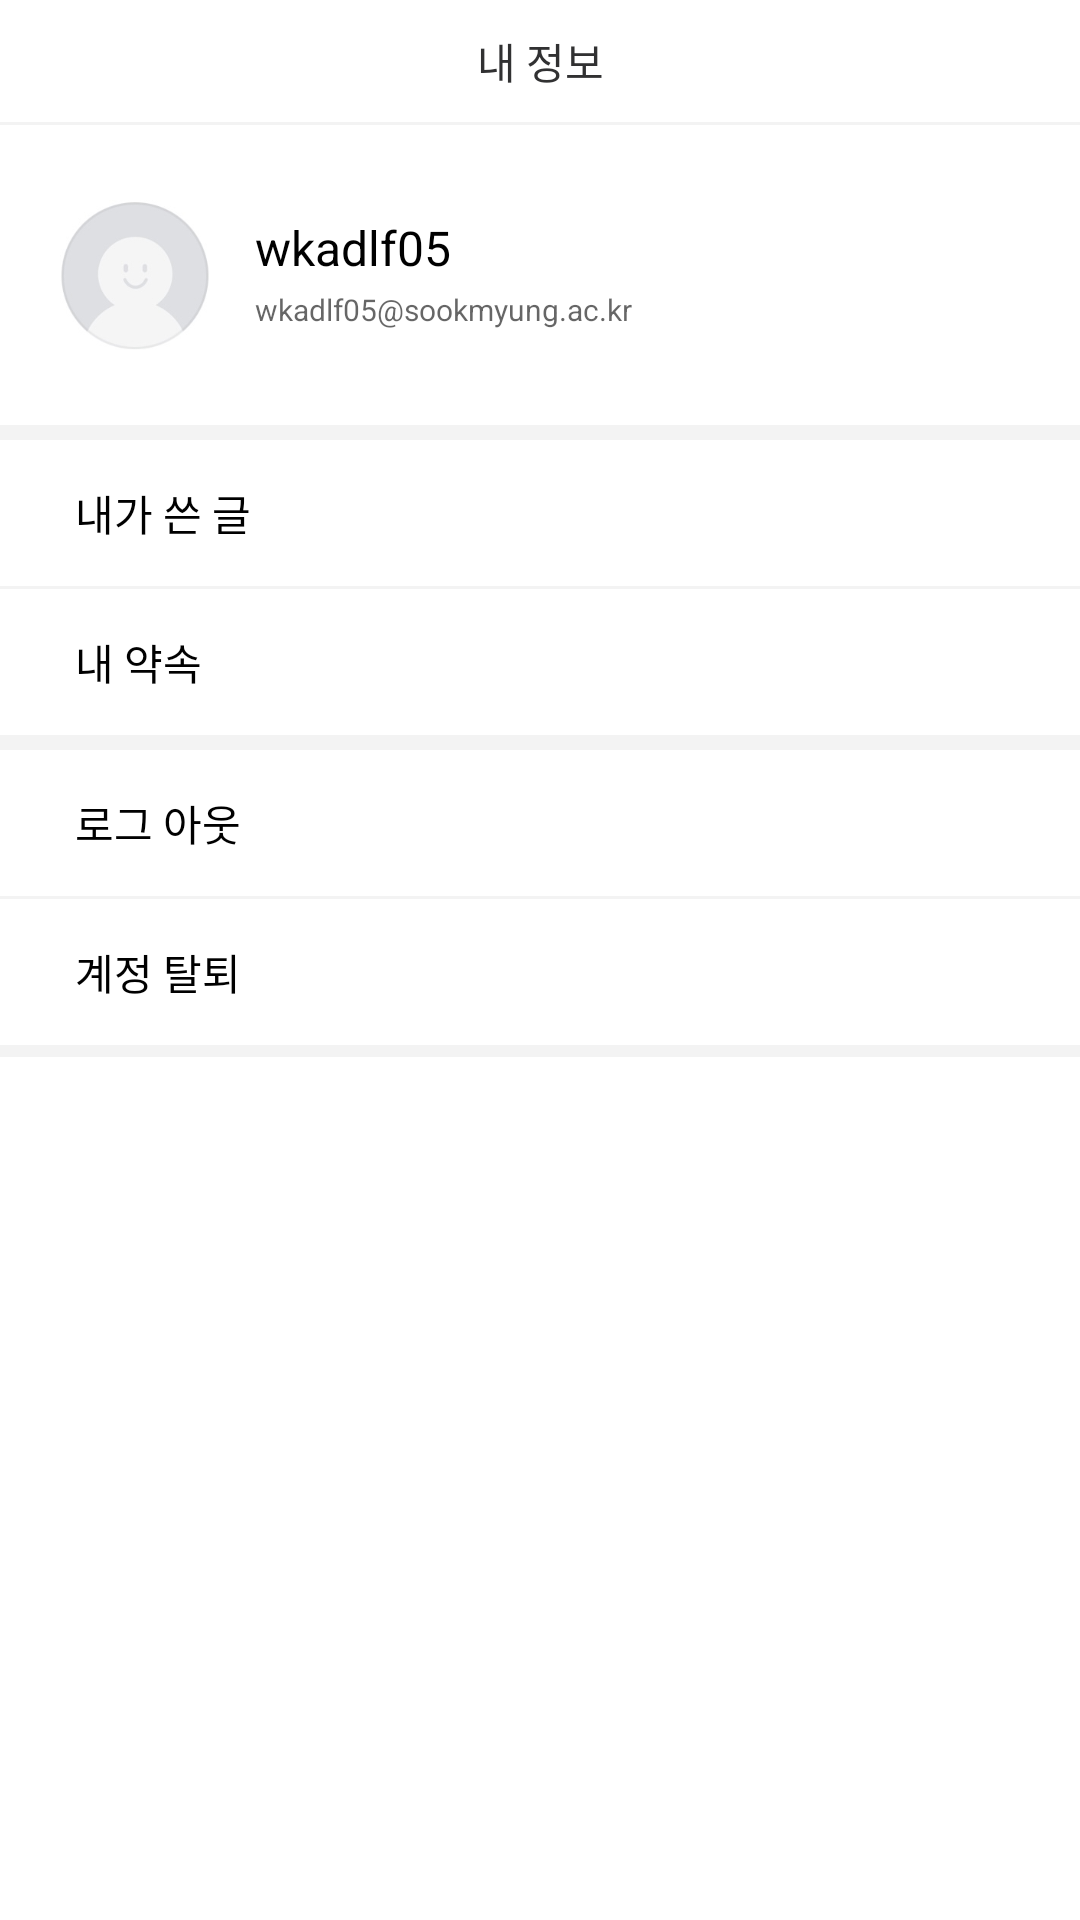

Where to tap for icons on this 1080×1920 app screen, as (x=x, y=y):
profile: (x=135, y=275)
